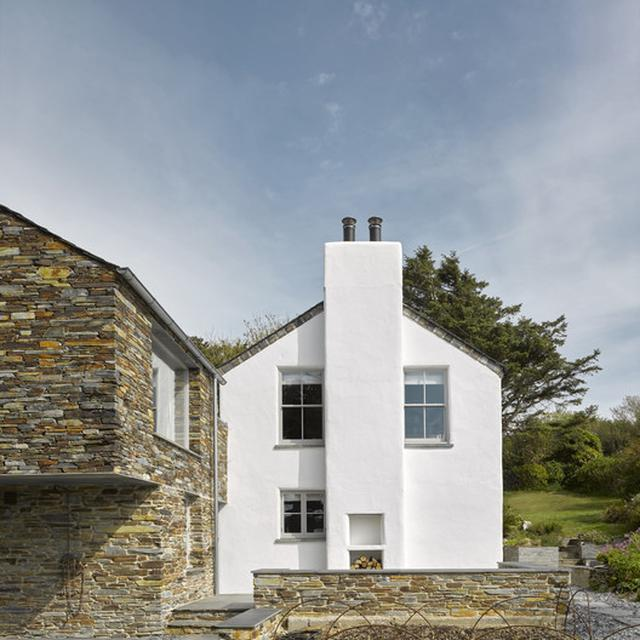building: (218, 208, 503, 582), (0, 198, 218, 640)
